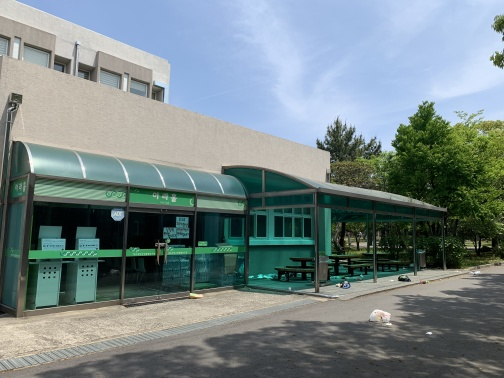Ara Hall: (3, 104, 448, 310)
